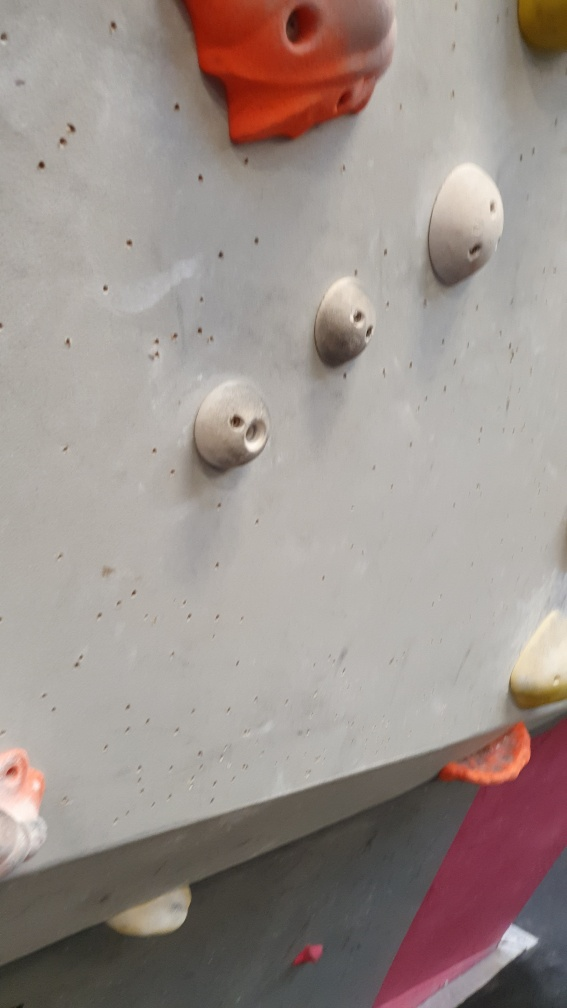Jug: (173, 1, 396, 151), (436, 726, 537, 786)
Sloper: (420, 159, 512, 284), (186, 376, 280, 470), (310, 273, 385, 372)
